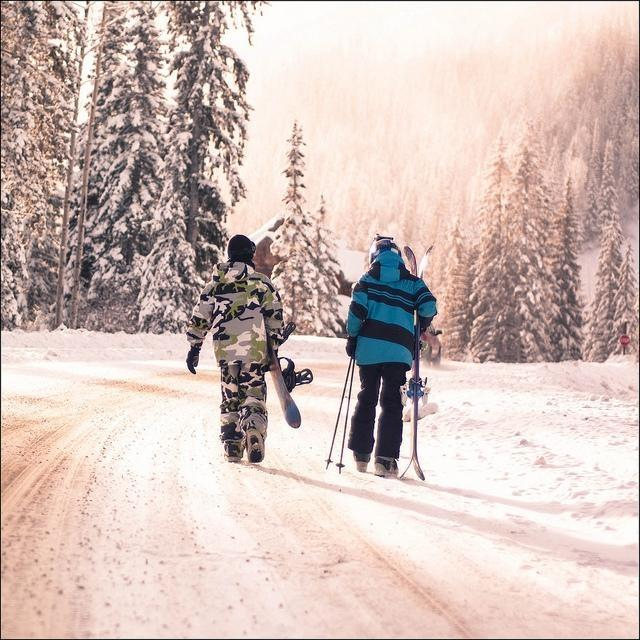car: (420, 323, 443, 368)
